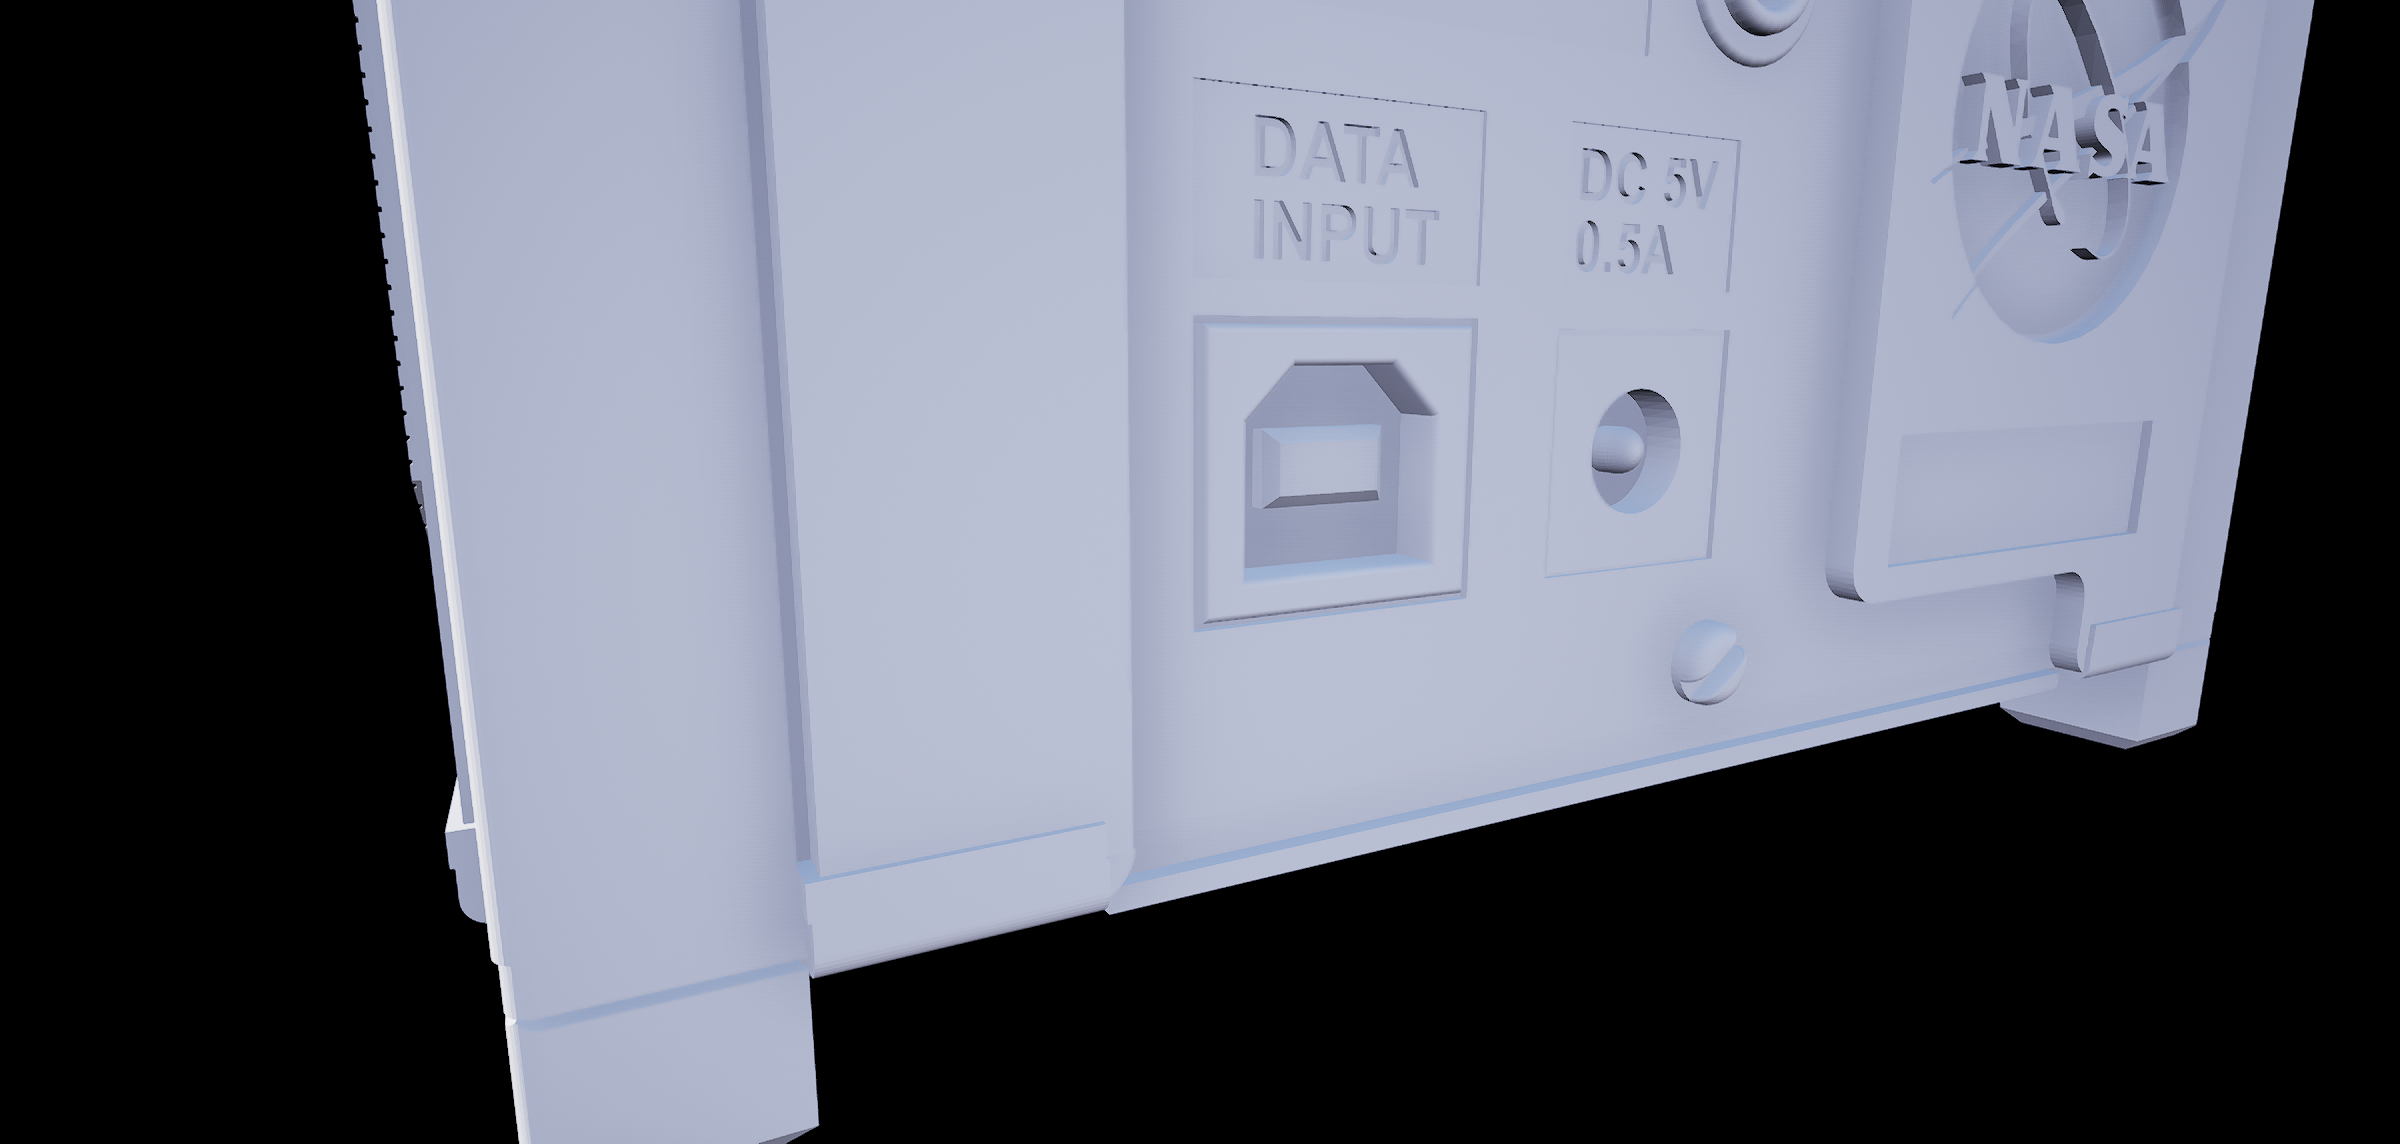dc: (1578, 377, 1688, 525)
usb: (1231, 342, 1454, 591)
